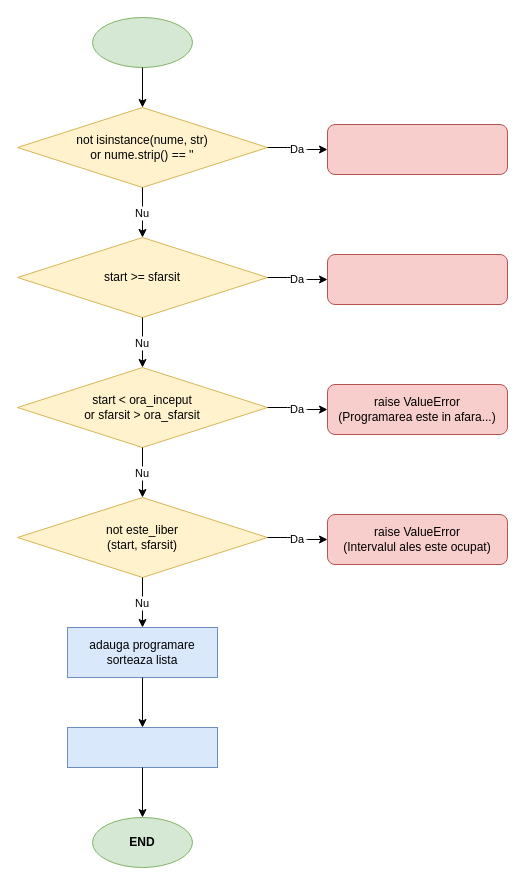
The diagram is 525 pixels wide and 885 high, and some of its shapes have lost their labels. Here are the shapes that lost their labels. From the top down, the centre of each, then its label:
At (x=142, y=42): "START".
At (x=417, y=149): "raise ValueError (Numele nu poate fi gol)".
At (x=417, y=279): "raise ValueError (Ora de start...)".
At (x=142, y=747): "return True".
